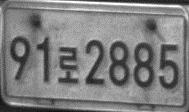1: (35, 36, 51, 83)
2: (83, 39, 106, 85)
5: (158, 43, 180, 89)
8: (107, 39, 130, 86), (132, 41, 154, 87)
9: (9, 35, 31, 81)
로: (57, 45, 80, 84)
